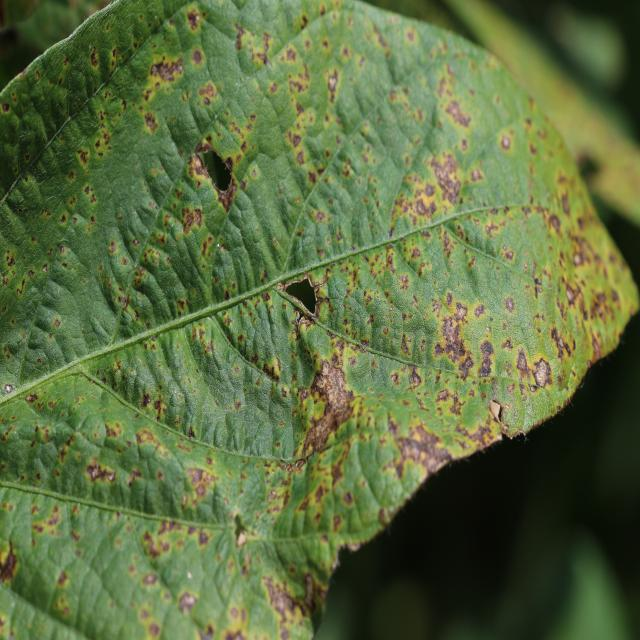Bacterial_Blight: (295, 334, 364, 464), (487, 370, 601, 447), (400, 416, 456, 475), (263, 576, 307, 631), (437, 317, 470, 370), (429, 153, 461, 206), (282, 275, 320, 318), (488, 399, 522, 438), (569, 235, 595, 273), (149, 55, 183, 84), (0, 539, 19, 585), (186, 466, 214, 497), (85, 459, 118, 485), (444, 98, 472, 128), (532, 357, 553, 388), (564, 280, 584, 311), (181, 206, 203, 232), (576, 150, 596, 175), (325, 67, 340, 100), (219, 185, 237, 212), (178, 591, 197, 615), (264, 357, 282, 382), (343, 535, 365, 554), (192, 153, 208, 177), (153, 395, 166, 420), (187, 9, 201, 31), (548, 213, 561, 234), (409, 368, 422, 388), (76, 149, 89, 167), (236, 531, 248, 548), (90, 47, 99, 69), (141, 392, 152, 408), (25, 393, 39, 404), (4, 384, 15, 395)
Soybean: (0, 0, 638, 638)
